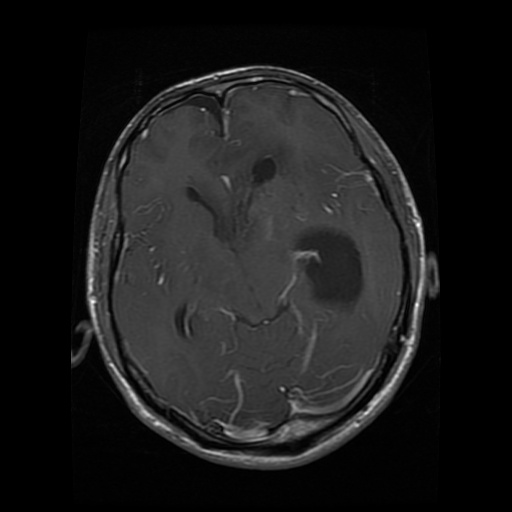glioma: (288, 223, 363, 307)
